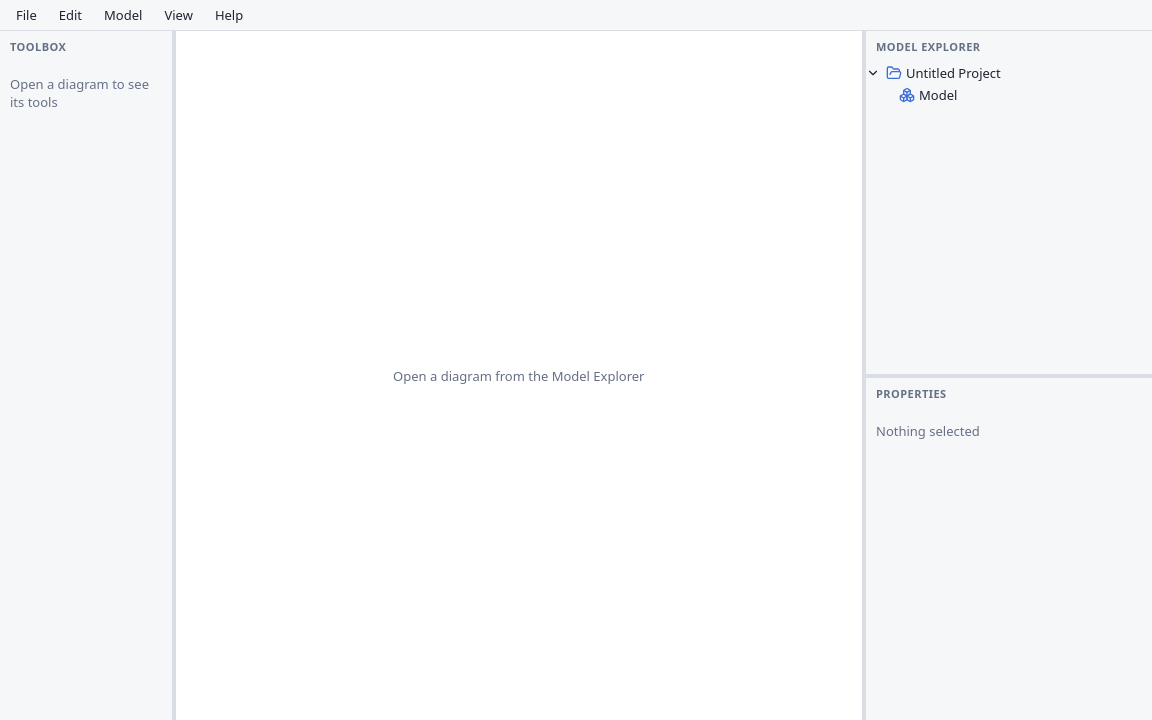
Shell › hides and shows panels from the View menu, even both right-hand ones
This screenshot has width=1152, height=720.
Click the menu item "View" at (179, 15), box [154, 2, 203, 28]
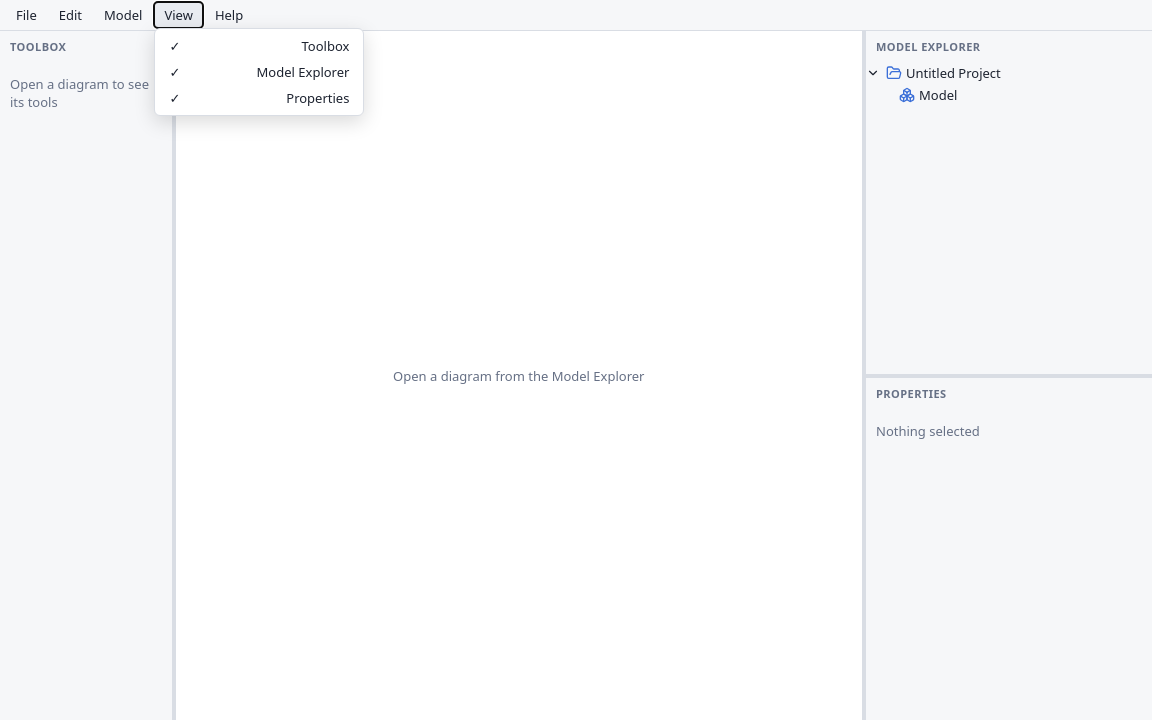
Click the menu item "✓ Properties" at (259, 98), box [159, 85, 359, 111]
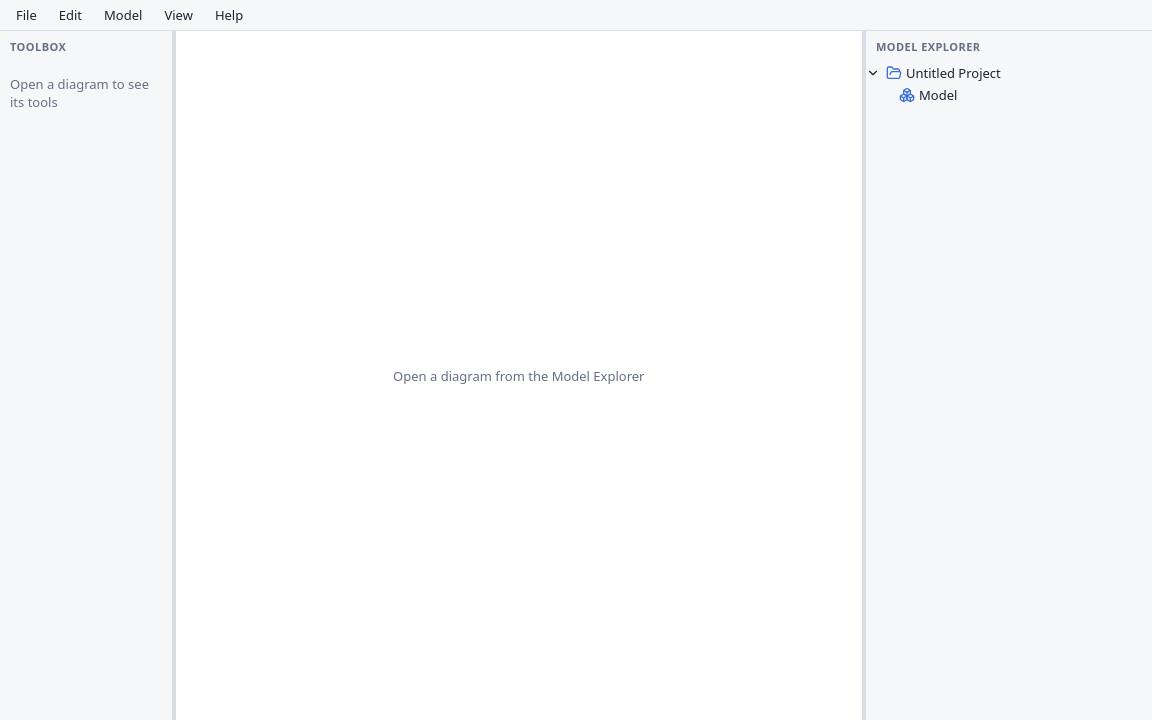
Click the menu item "View" at (179, 15), box [154, 2, 203, 28]
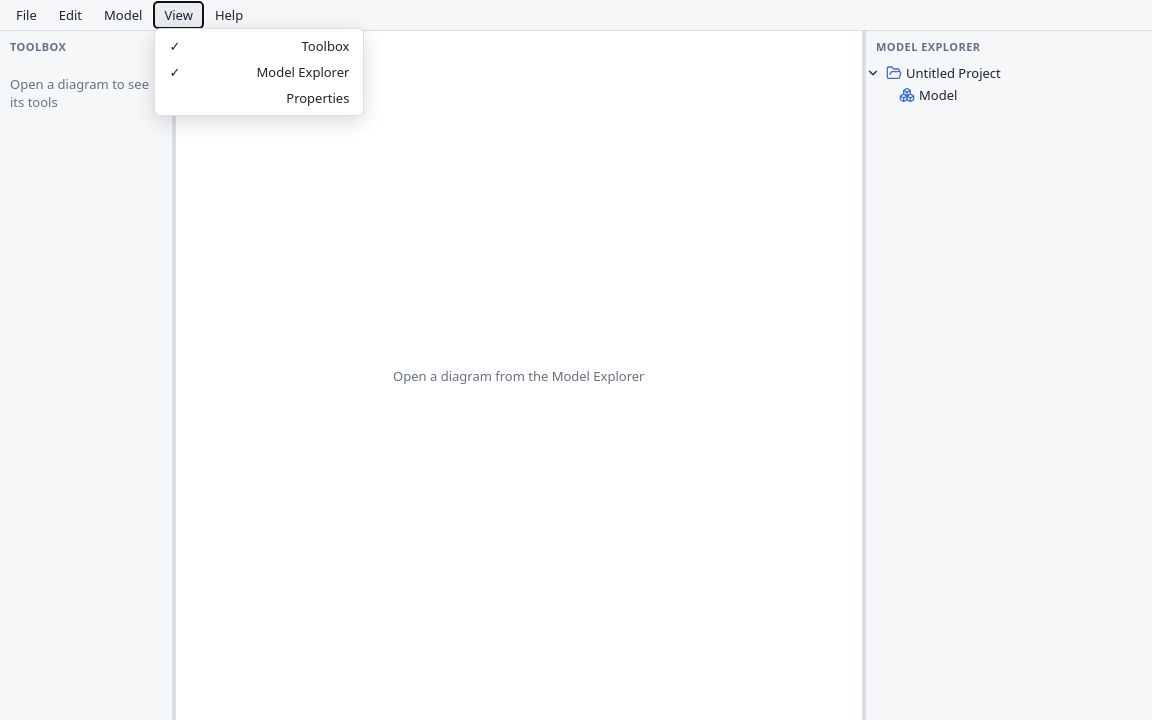
Click the menu item "✓ Model Explorer" at (259, 72), box [159, 59, 359, 85]
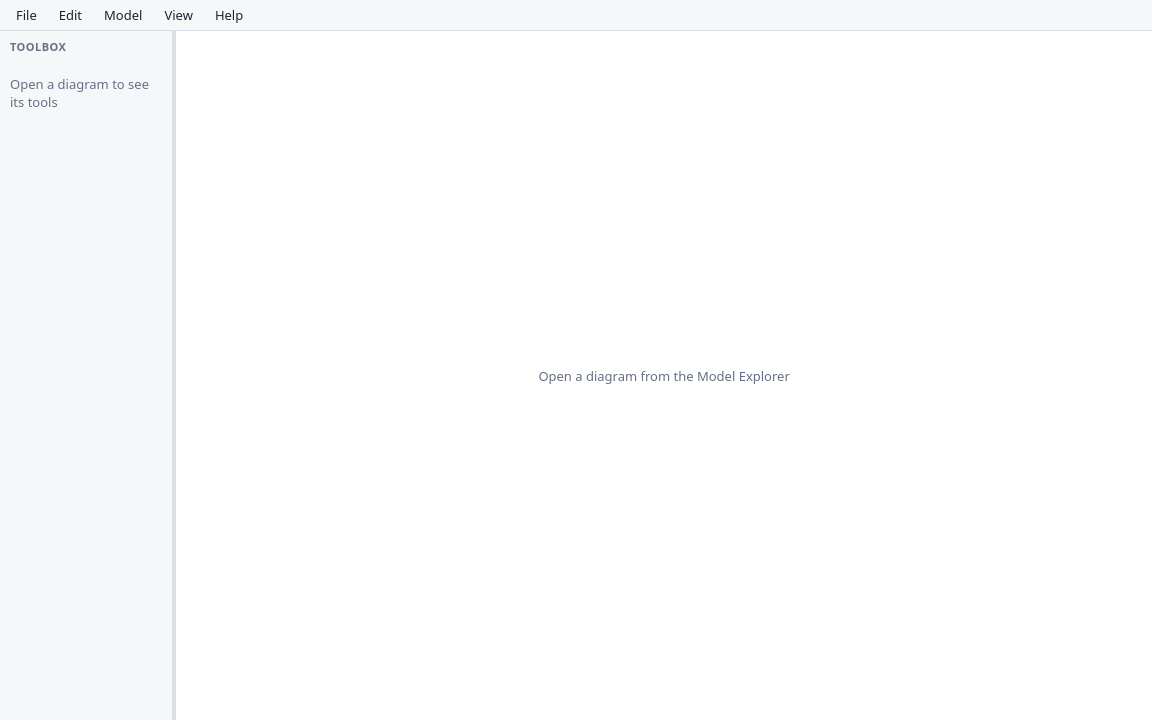
Expected: the text "Nothing selected" is not shown
Expected: the text "Open a diagram from the Model Explorer" is shown, [538, 366, 790, 384]
Click the menu item "View" at (179, 15), box [154, 2, 203, 28]
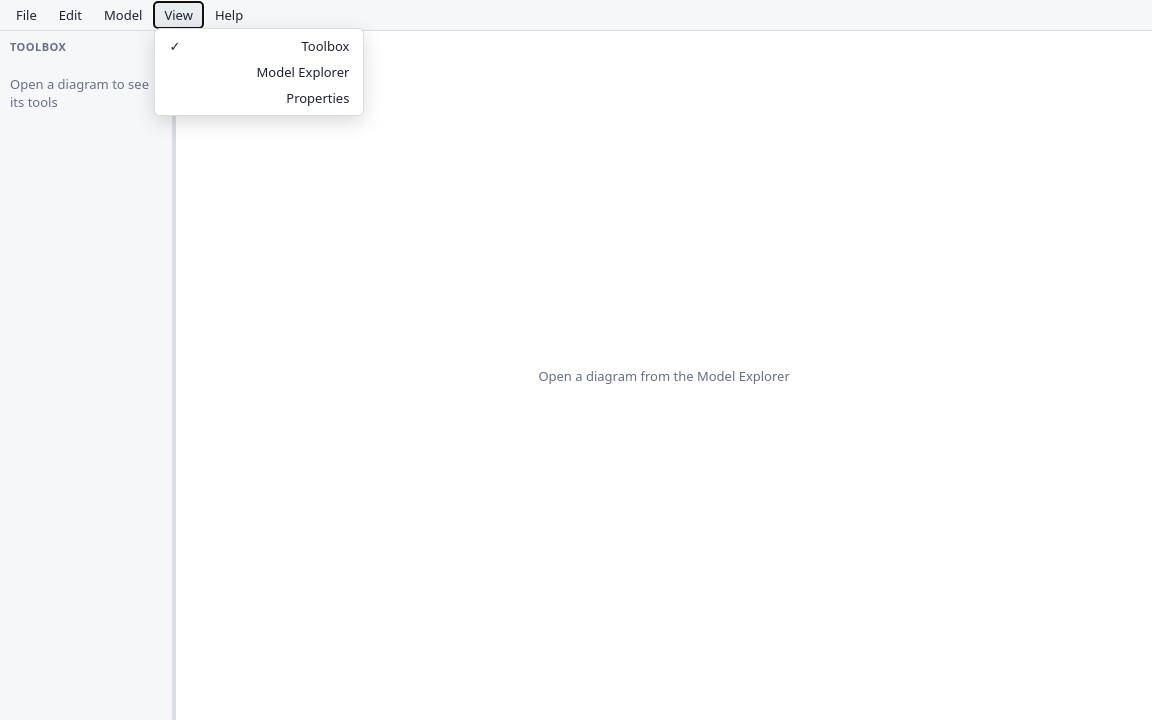
Click the menu item "Model Explorer" at (259, 72), box [159, 59, 359, 85]
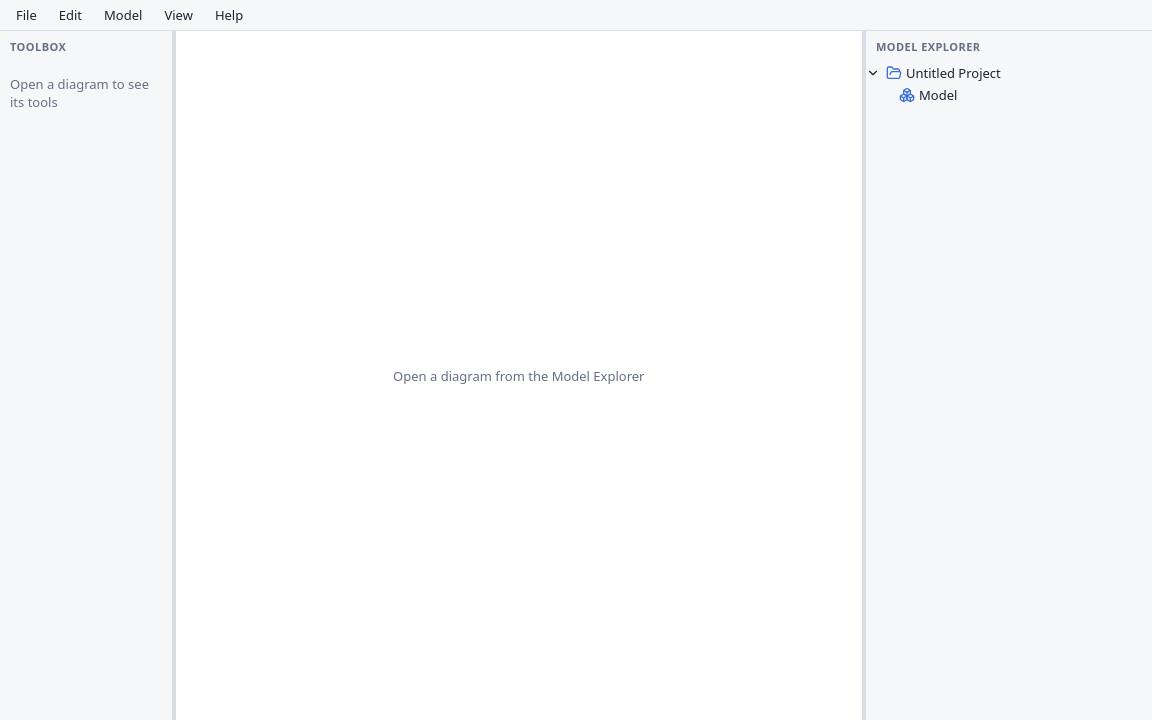
Now the list is shown, box [866, 64, 1001, 104]
